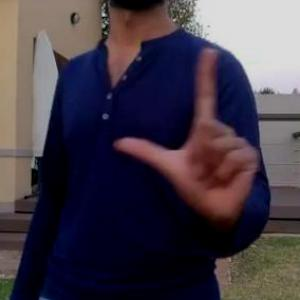land_hand: (106, 40, 270, 229)
